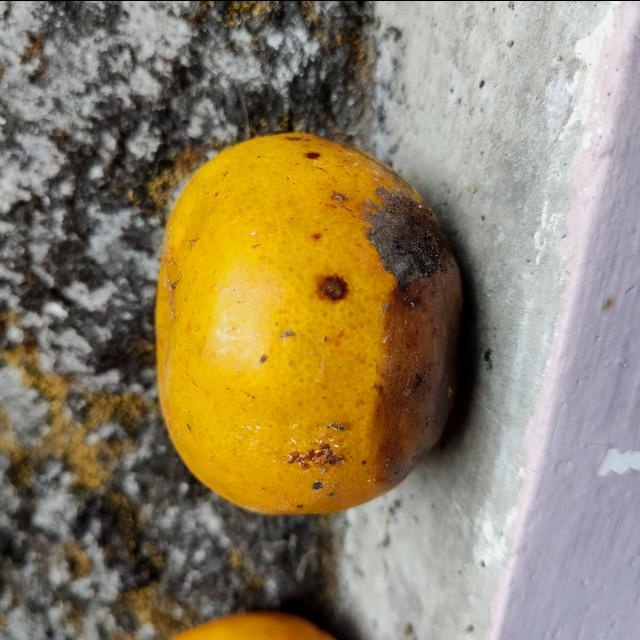agrume: (158, 129, 480, 517)
